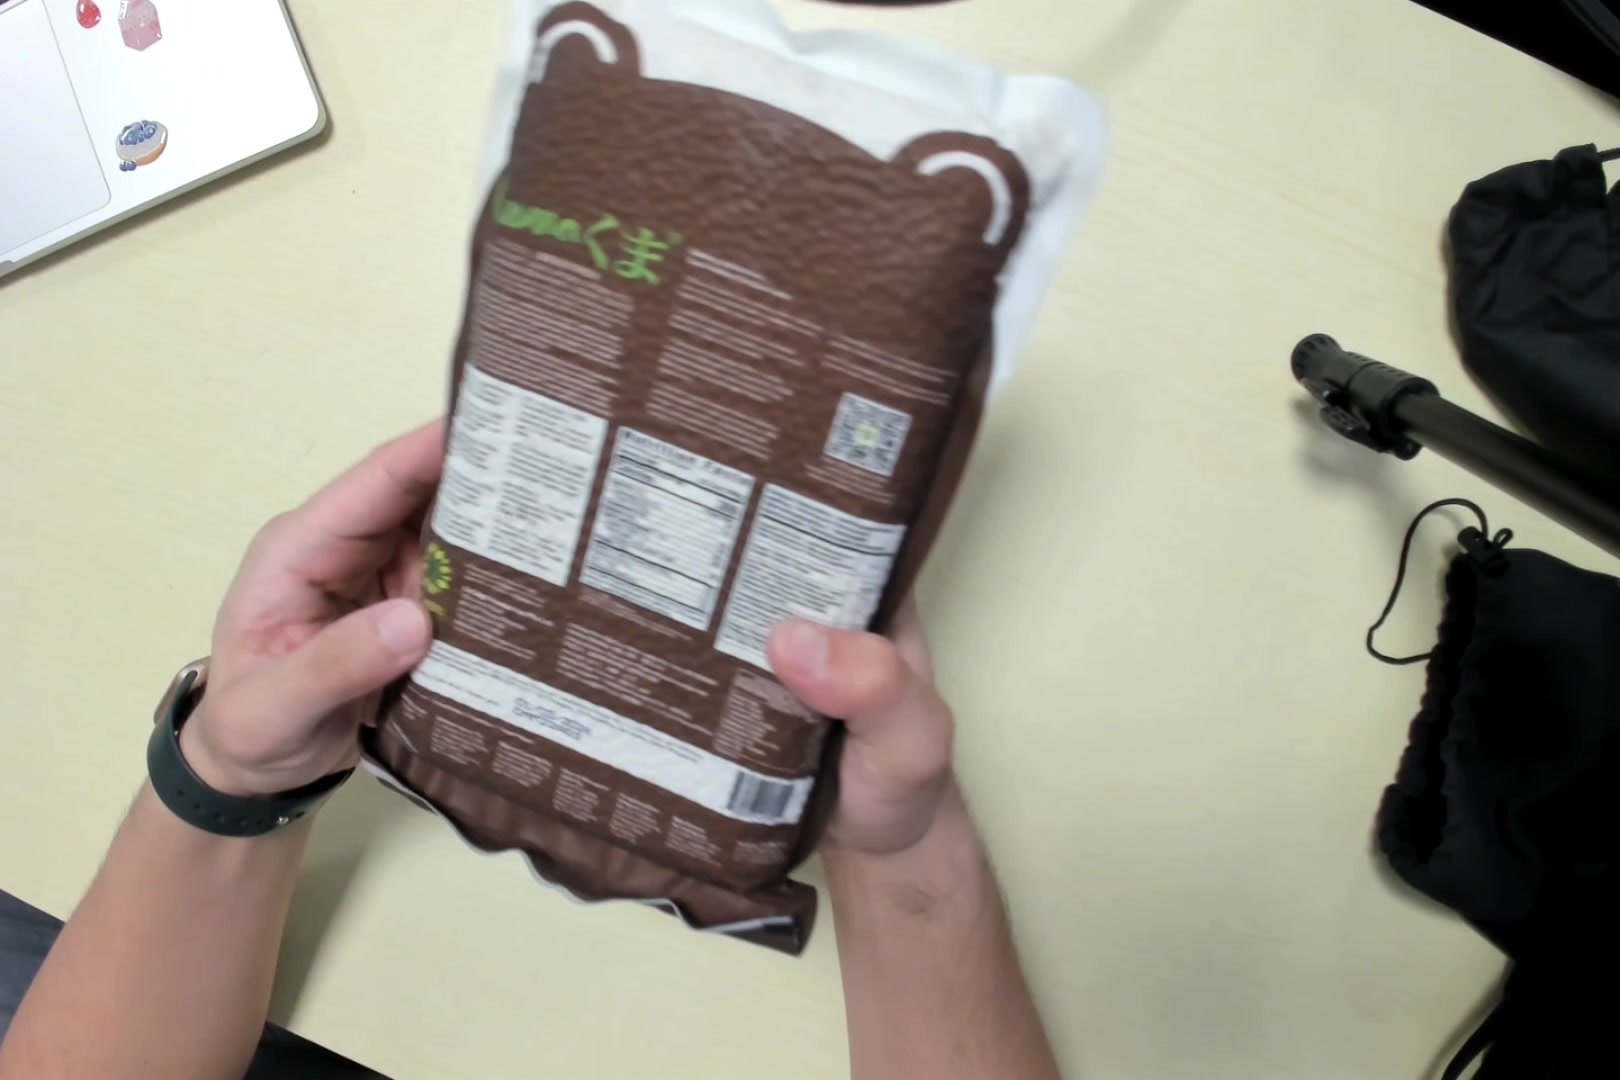Rice(BrownOthers)_500-599g_NonHalal_Healthy: (385, 1, 1045, 931)
